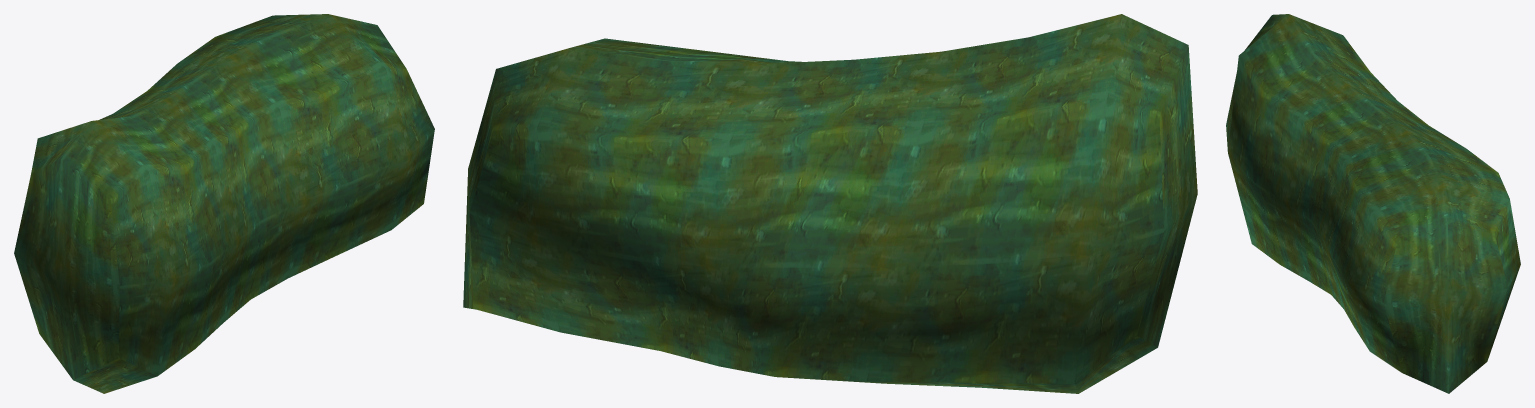
File: MIRKWOOD_MIRK_PLAYSURFACE192.fbx
3 views of the same model, side by side, from view 1: azimuth 30°, elevation 25°; view 2: azimuth 150°, elevation 25°; view 3: azimuth 270°, elevation 25° (orthographic). The views are drawn at different scales.
Visible parts, largest first — view 1: MIRKWOOD_MIRK_PLAYSURFACE192; view 2: MIRKWOOD_MIRK_PLAYSURFACE192; view 3: MIRKWOOD_MIRK_PLAYSURFACE192.
Boxes of the visible parts, x1,y1,x2,y2 form: MIRKWOOD_MIRK_PLAYSURFACE192: [14, 14, 434, 393]; MIRKWOOD_MIRK_PLAYSURFACE192: [463, 14, 1197, 393]; MIRKWOOD_MIRK_PLAYSURFACE192: [1226, 14, 1520, 393].
Bounding box in the file's own units: 99783 × 59405 × 65607.
1 material, 1 textured.
